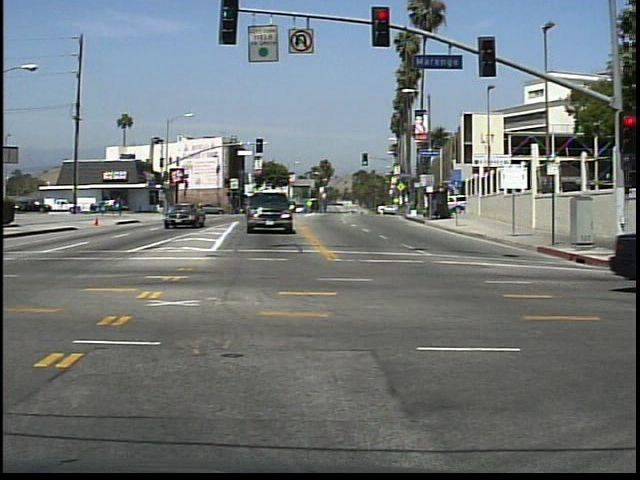person: (114, 193, 130, 221)
